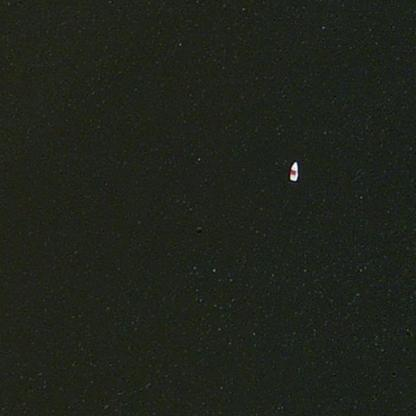ship: (279, 154, 306, 188)
